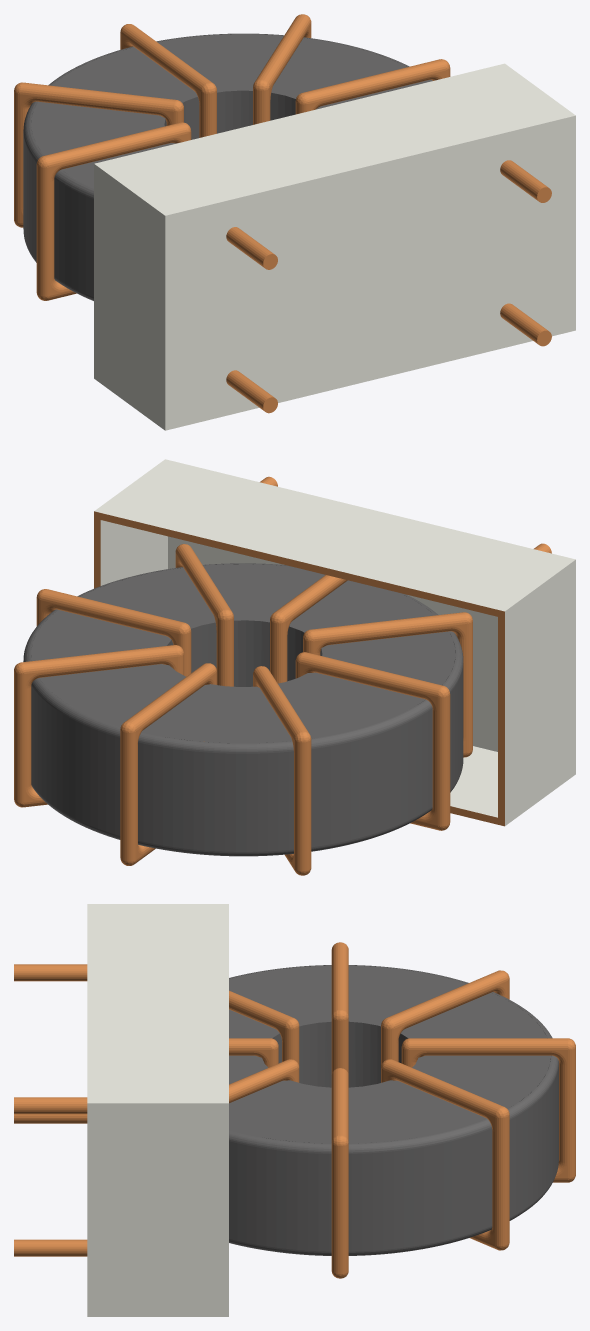
Rendered from L_CommonMode_Toroid_Vertical_L30.5mm_W15.2mm_Px10.16mm_Py20.32mm_Bourns_8100.glb.
The picture shows the model from 3 angles, top to bottom: view 1: azimuth 30°, elevation 25°; view 2: azimuth 150°, elevation 25°; view 3: azimuth 270°, elevation 25°; orthographic projection.
Visible parts, largest first — view 1: Shape_IndexedFaceSet.455, Shape_IndexedFaceSet.441, Shape_IndexedFaceSet.442, Shape_IndexedFaceSet.454, Shape_IndexedFaceSet.290, Shape_IndexedFaceSet.218, Shape_IndexedFaceSet.188, Shape_IndexedFaceSet.315, Shape_IndexedFaceSet.077, Shape_IndexedFaceSet.449, Shape_IndexedFaceSet.312, Shape_IndexedFaceSet.248 (+20 smaller); view 2: Shape_IndexedFaceSet.441, Shape_IndexedFaceSet.144, Shape_IndexedFaceSet.442, Shape_IndexedFaceSet.099, Shape_IndexedFaceSet.133, Shape_IndexedFaceSet.315, Shape_IndexedFaceSet.218, Shape_IndexedFaceSet.440, Shape_IndexedFaceSet.453, Shape_IndexedFaceSet.290, Shape_IndexedFaceSet.161, Shape_IndexedFaceSet.049 (+41 smaller); view 3: Shape_IndexedFaceSet.444, Shape_IndexedFaceSet.441, Shape_IndexedFaceSet.093, Shape_IndexedFaceSet.066, Shape_IndexedFaceSet.188, Shape_IndexedFaceSet.114, Shape_IndexedFaceSet.133, Shape_IndexedFaceSet.290, Shape_IndexedFaceSet.218, Shape_IndexedFaceSet.161, Shape_IndexedFaceSet.315, Shape_IndexedFaceSet.305 (+29 smaller).
Boxes of the visible parts, <box> form: Shape_IndexedFaceSet.455: <box>172,124,569,421</box>; Shape_IndexedFaceSet.441: <box>94,63,571,212</box>; Shape_IndexedFaceSet.442: <box>94,164,161,427</box>; Shape_IndexedFaceSet.454: <box>165,115,575,430</box>; Shape_IndexedFaceSet.290: <box>157,34,283,92</box>; Shape_IndexedFaceSet.218: <box>31,101,165,155</box>; Shape_IndexedFaceSet.188: <box>271,38,406,98</box>; Shape_IndexedFaceSet.315: <box>52,47,197,102</box>; Shape_IndexedFaceSet.077: <box>54,179,93,297</box>; Shape_IndexedFaceSet.449: <box>162,113,575,215</box>; Shape_IndexedFaceSet.312: <box>20,83,175,111</box>; Shape_IndexedFaceSet.248: <box>45,123,186,167</box>; Shape_IndexedFaceSet.441: <box>94,462,571,611</box>; Shape_IndexedFaceSet.144: <box>138,742,293,851</box>; Shape_IndexedFaceSet.442: <box>505,562,571,825</box>; Shape_IndexedFaceSet.099: <box>311,708,432,847</box>; Shape_IndexedFaceSet.133: <box>31,686,120,835</box>; Shape_IndexedFaceSet.315: <box>141,684,292,743</box>; Shape_IndexedFaceSet.218: <box>278,672,425,738</box>; Shape_IndexedFaceSet.440: <box>94,511,504,826</box>; Shape_IndexedFaceSet.453: <box>168,536,497,751</box>; Shape_IndexedFaceSet.290: <box>39,664,185,726</box>; Shape_IndexedFaceSet.161: <box>321,631,455,685</box>; Shape_IndexedFaceSet.049: <box>203,564,325,622</box>; Shape_IndexedFaceSet.444: <box>95,1103,228,1316</box>; Shape_IndexedFaceSet.441: <box>95,904,228,1103</box>; Shape_IndexedFaceSet.093: <box>348,1128,492,1251</box>; Shape_IndexedFaceSet.066: <box>229,1141,331,1251</box>; Shape_IndexedFaceSet.188: <box>348,1080,486,1143</box>; Shape_IndexedFaceSet.114: <box>229,1080,331,1143</box>; Shape_IndexedFaceSet.133: <box>509,1064,558,1217</box>; Shape_IndexedFaceSet.290: <box>412,1055,550,1108</box>; Shape_IndexedFaceSet.218: <box>348,965,466,1026</box>; Shape_IndexedFaceSet.161: <box>229,965,331,1026</box>; Shape_IndexedFaceSet.315: <box>401,992,547,1038</box>; Shape_IndexedFaceSet.305: <box>348,1021,380,1087</box>.
Size of the model in its own units: 12 by 6 by 14.3.
